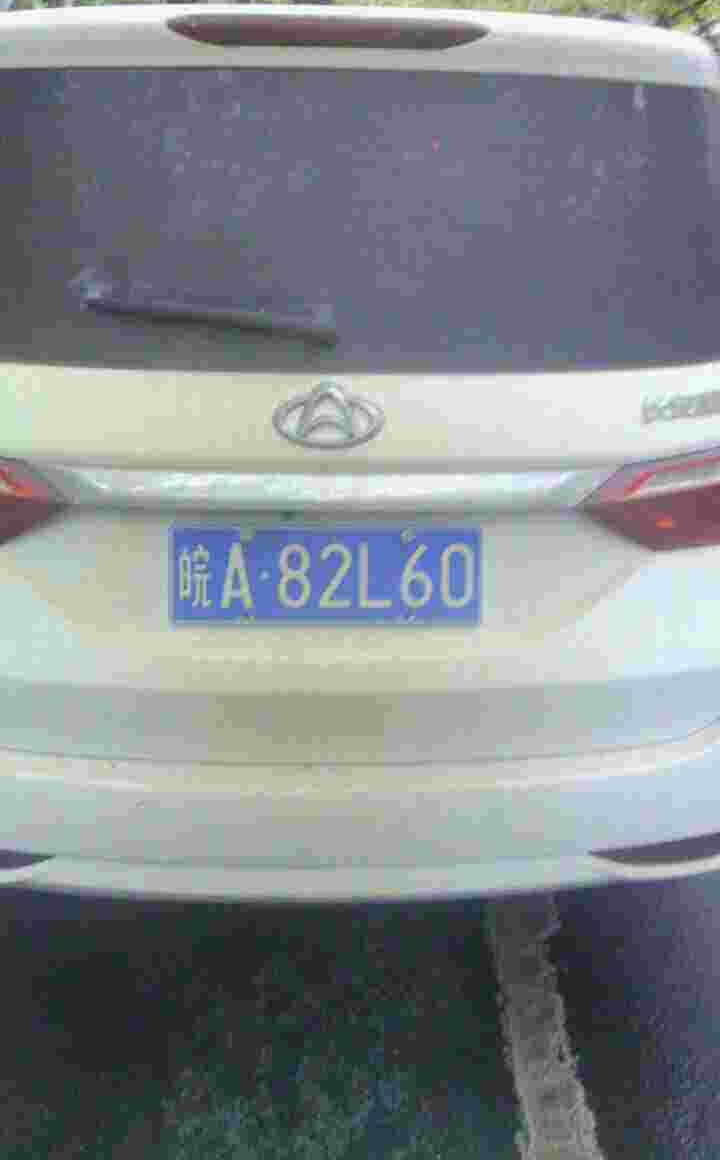license_plate: (180, 531, 478, 626)
